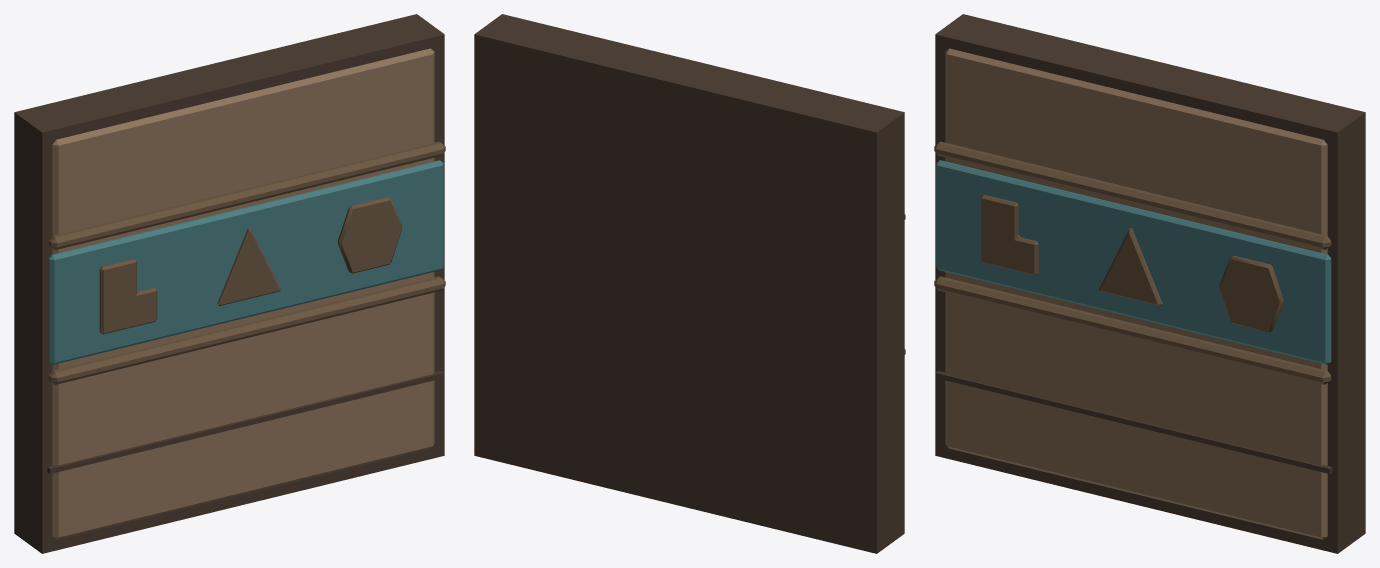
Rendered from back_wall_2.glb.
3 views of the same model, side by side, from view 1: azimuth 30°, elevation 25°; view 2: azimuth 150°, elevation 25°; view 3: azimuth 330°, elevation 25° (orthographic).
Parts seen in each view (by area): view 1: back_wall_2; view 2: back_wall_2; view 3: back_wall_2.
Part boxes in pixels (<box>): back_wall_2: <box>14,14,445,553</box>; back_wall_2: <box>474,14,905,553</box>; back_wall_2: <box>934,14,1365,553</box>.
Bounding box in the file's own units: 1 × 1 × 0.152.
